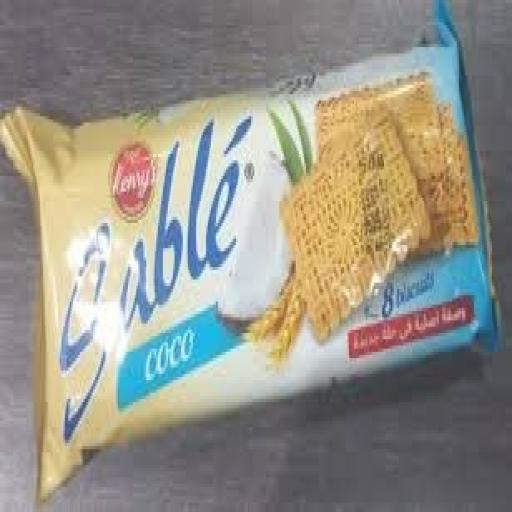sabl: (6, 45, 506, 476)
